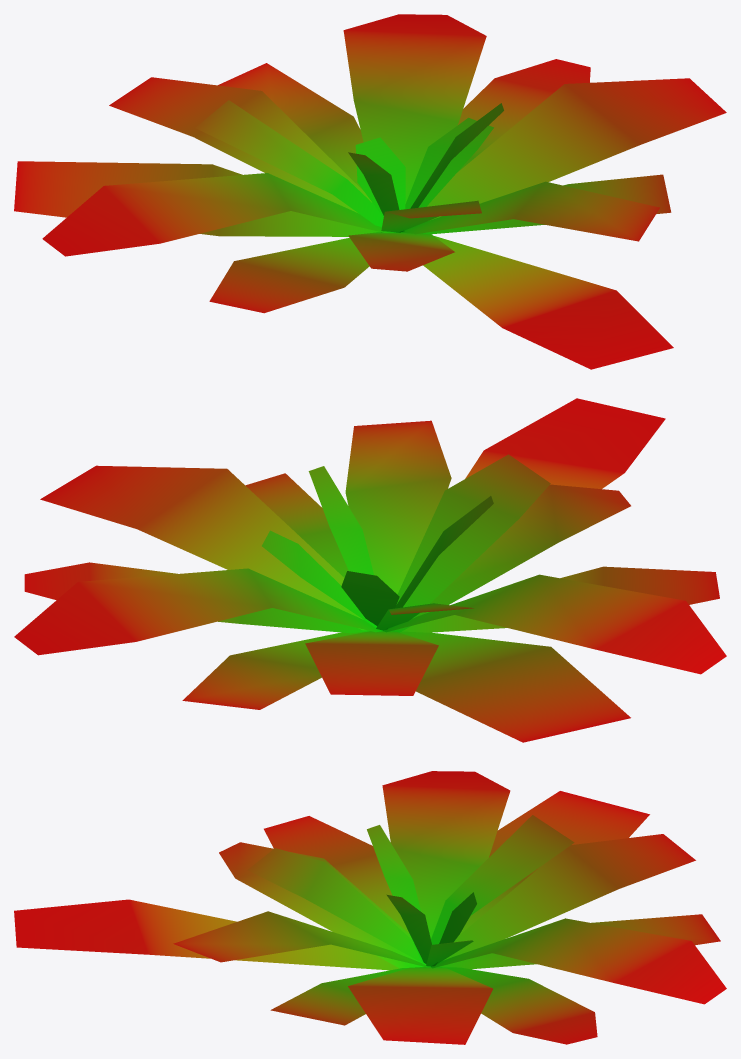
File: Var24_LOD2.fbx
3 views of the same model, one above another, from view 1: azimuth 30°, elevation 25°; view 2: azimuth 150°, elevation 25°; view 3: azimuth 270°, elevation 25° (orthographic). The views are drawn at different scales.
Parts seen in each view (by area): view 1: _hvc7_Var24_LOD2; view 2: _hvc7_Var24_LOD2; view 3: _hvc7_Var24_LOD2.
Boxes of the visible parts, x1=… form: _hvc7_Var24_LOD2: x1=14, y1=14, x2=726, y2=369; _hvc7_Var24_LOD2: x1=14, y1=398, x2=726, y2=742; _hvc7_Var24_LOD2: x1=14, y1=771, x2=726, y2=1044.
Size of the model in its own units: 21.35 by 3.97 by 22.91.
